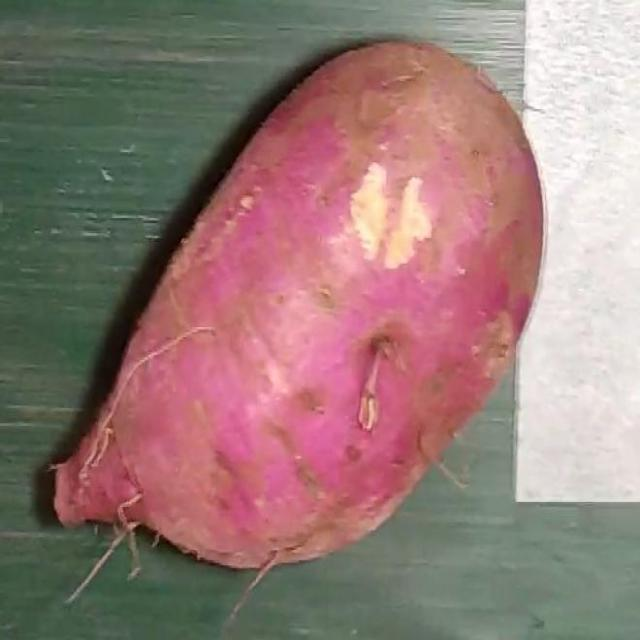Sweet Potato: (52, 43, 546, 573)
